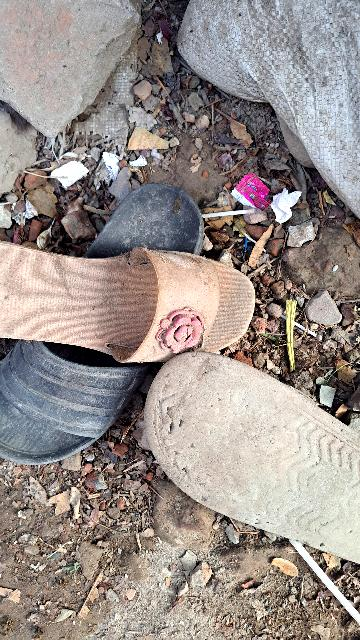sandal: (0, 161, 215, 466), (129, 330, 360, 566), (0, 238, 269, 372)
